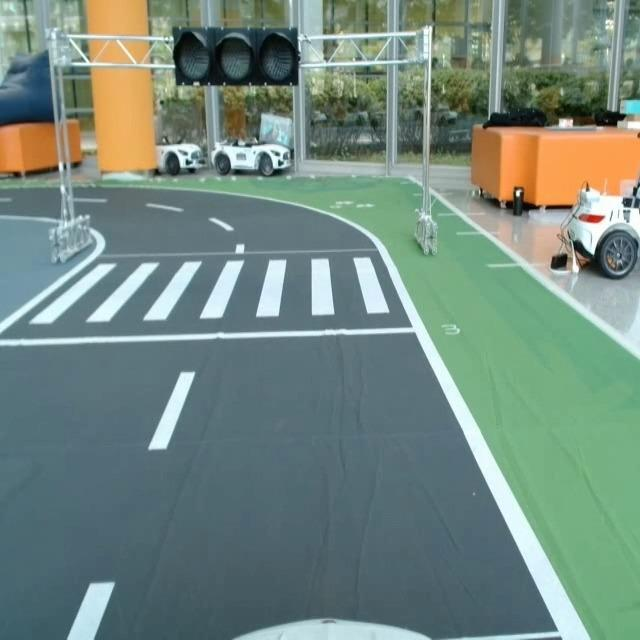traffic-light: (169, 25, 306, 89)
